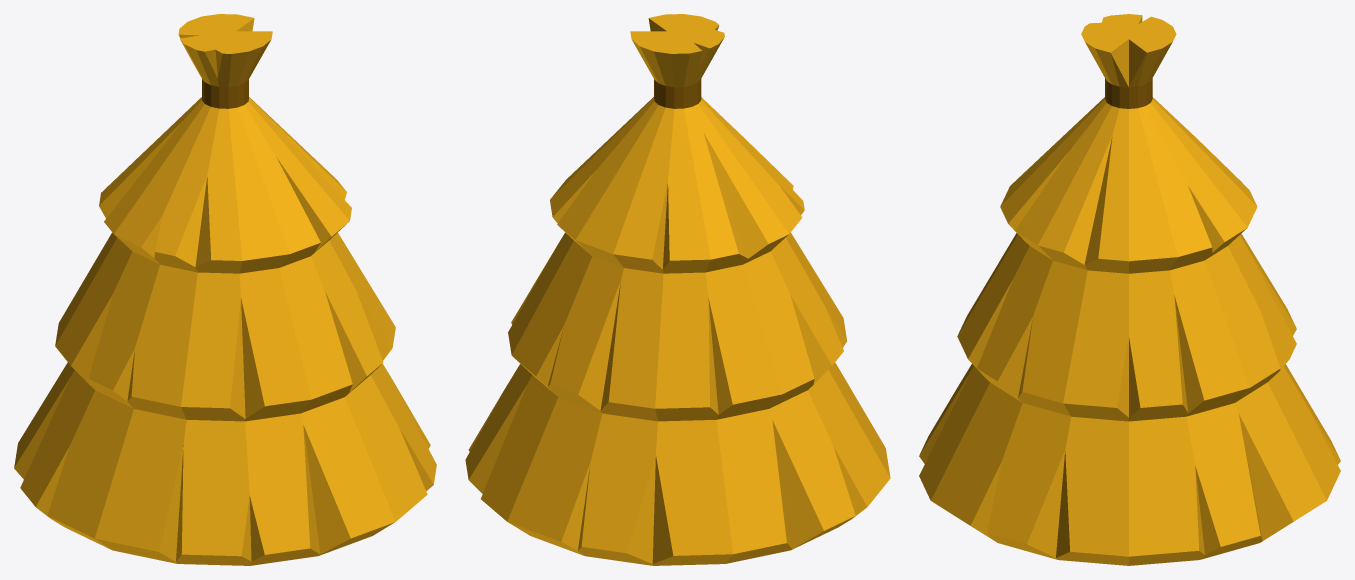
The model's file is StackedStraw_01.fbx.
3 views of the same model, side by side, from view 1: azimuth 30°, elevation 25°; view 2: azimuth 150°, elevation 25°; view 3: azimuth 270°, elevation 25° (orthographic).
Parts seen in each view (by area): view 1: StackedStraw_01; view 2: StackedStraw_01; view 3: StackedStraw_01.
Boxes of the visible parts, box(x1,y1,x2,y2) form: StackedStraw_01: box(14, 14, 436, 565); StackedStraw_01: box(465, 14, 890, 565); StackedStraw_01: box(919, 14, 1340, 565).
Bounding box in the file's own units: 143 × 168 × 142.
1 material, 1 textured.
